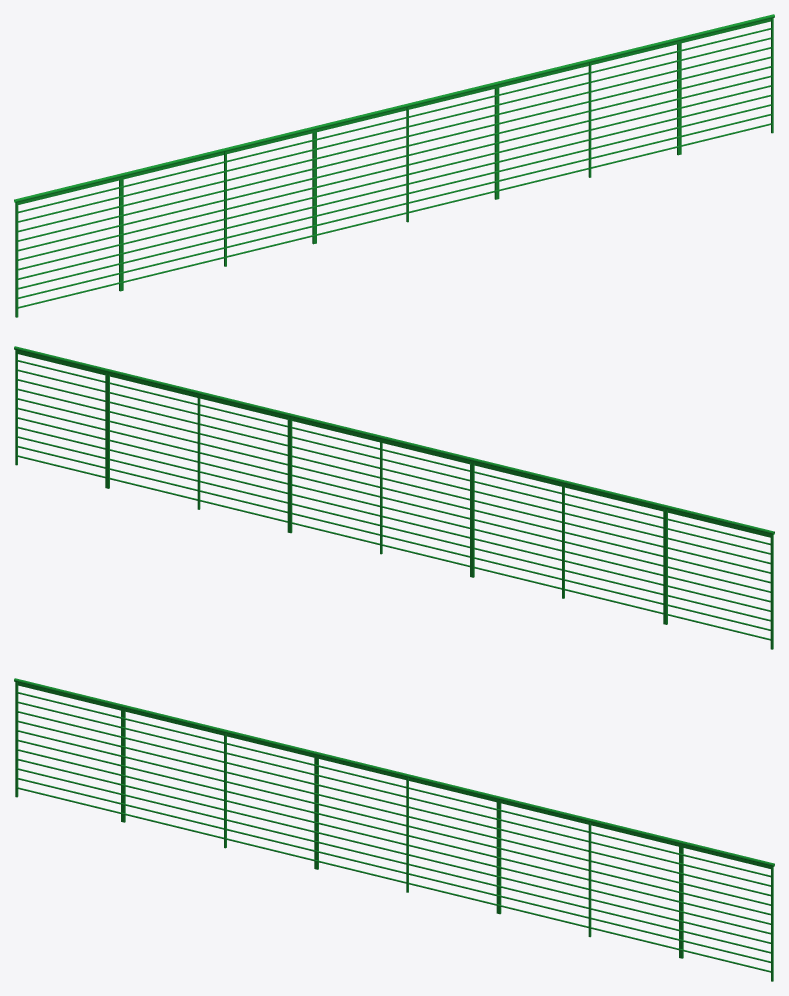
File: FenceLateralRamp03.fbx
The picture shows the model from 3 angles, top to bottom: view 1: azimuth 30°, elevation 25°; view 2: azimuth 150°, elevation 25°; view 3: azimuth 330°, elevation 25°; orthographic projection.
Visible parts, largest first — view 1: FenceLateralRamp03; view 2: FenceLateralRamp03; view 3: FenceLateralRamp03.
Part boxes in pixels (<box>): FenceLateralRamp03: <box>14,14,774,317</box>; FenceLateralRamp03: <box>14,346,774,649</box>; FenceLateralRamp03: <box>14,678,774,981</box>.
Size of the model in its own units: 833 by 124 by 4.66.
